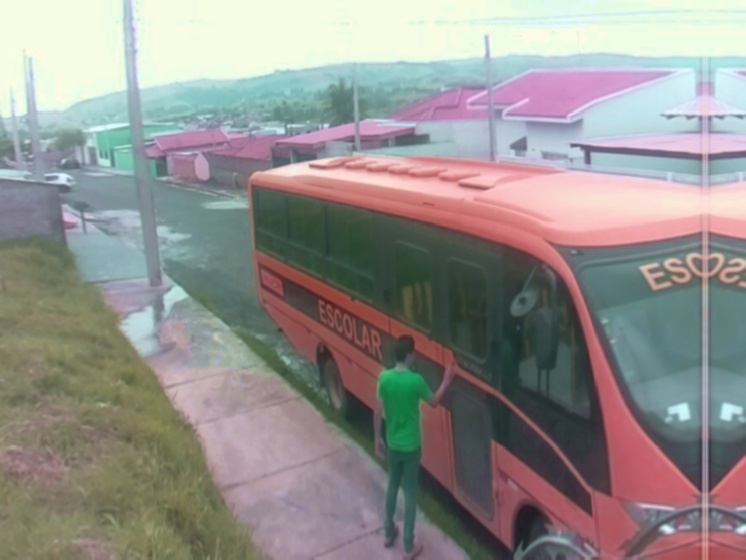person: (371, 333, 455, 560)
